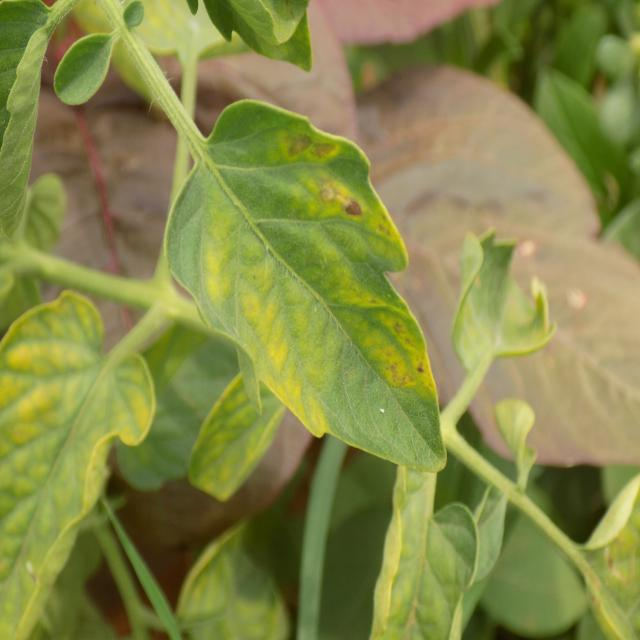tomato_early blight: (163, 95, 446, 474), (3, 287, 159, 640), (454, 220, 554, 387)
